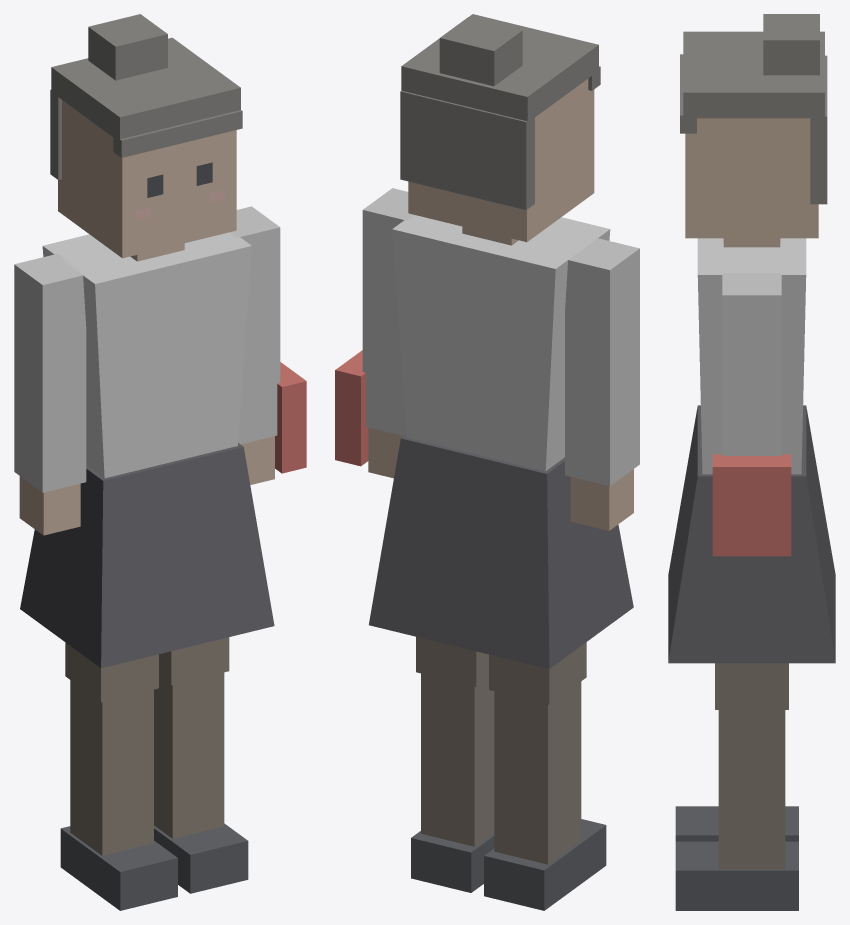
The model's file is walker_6.glb.
3 views of the same model, side by side, from view 1: azimuth 30°, elevation 25°; view 2: azimuth 150°, elevation 25°; view 3: azimuth 270°, elevation 25° (orthographic). The views are drawn at different scales.
Parts seen in each view (by area): view 1: walker_6; view 2: walker_6; view 3: walker_6.
Boxes of the visible parts, x1,y1,x2,y2 form: walker_6: (14, 14, 306, 910); walker_6: (335, 14, 639, 910); walker_6: (668, 14, 835, 910).
Bounding box in the file's own units: 0.6024 × 1.83 × 0.3264.
